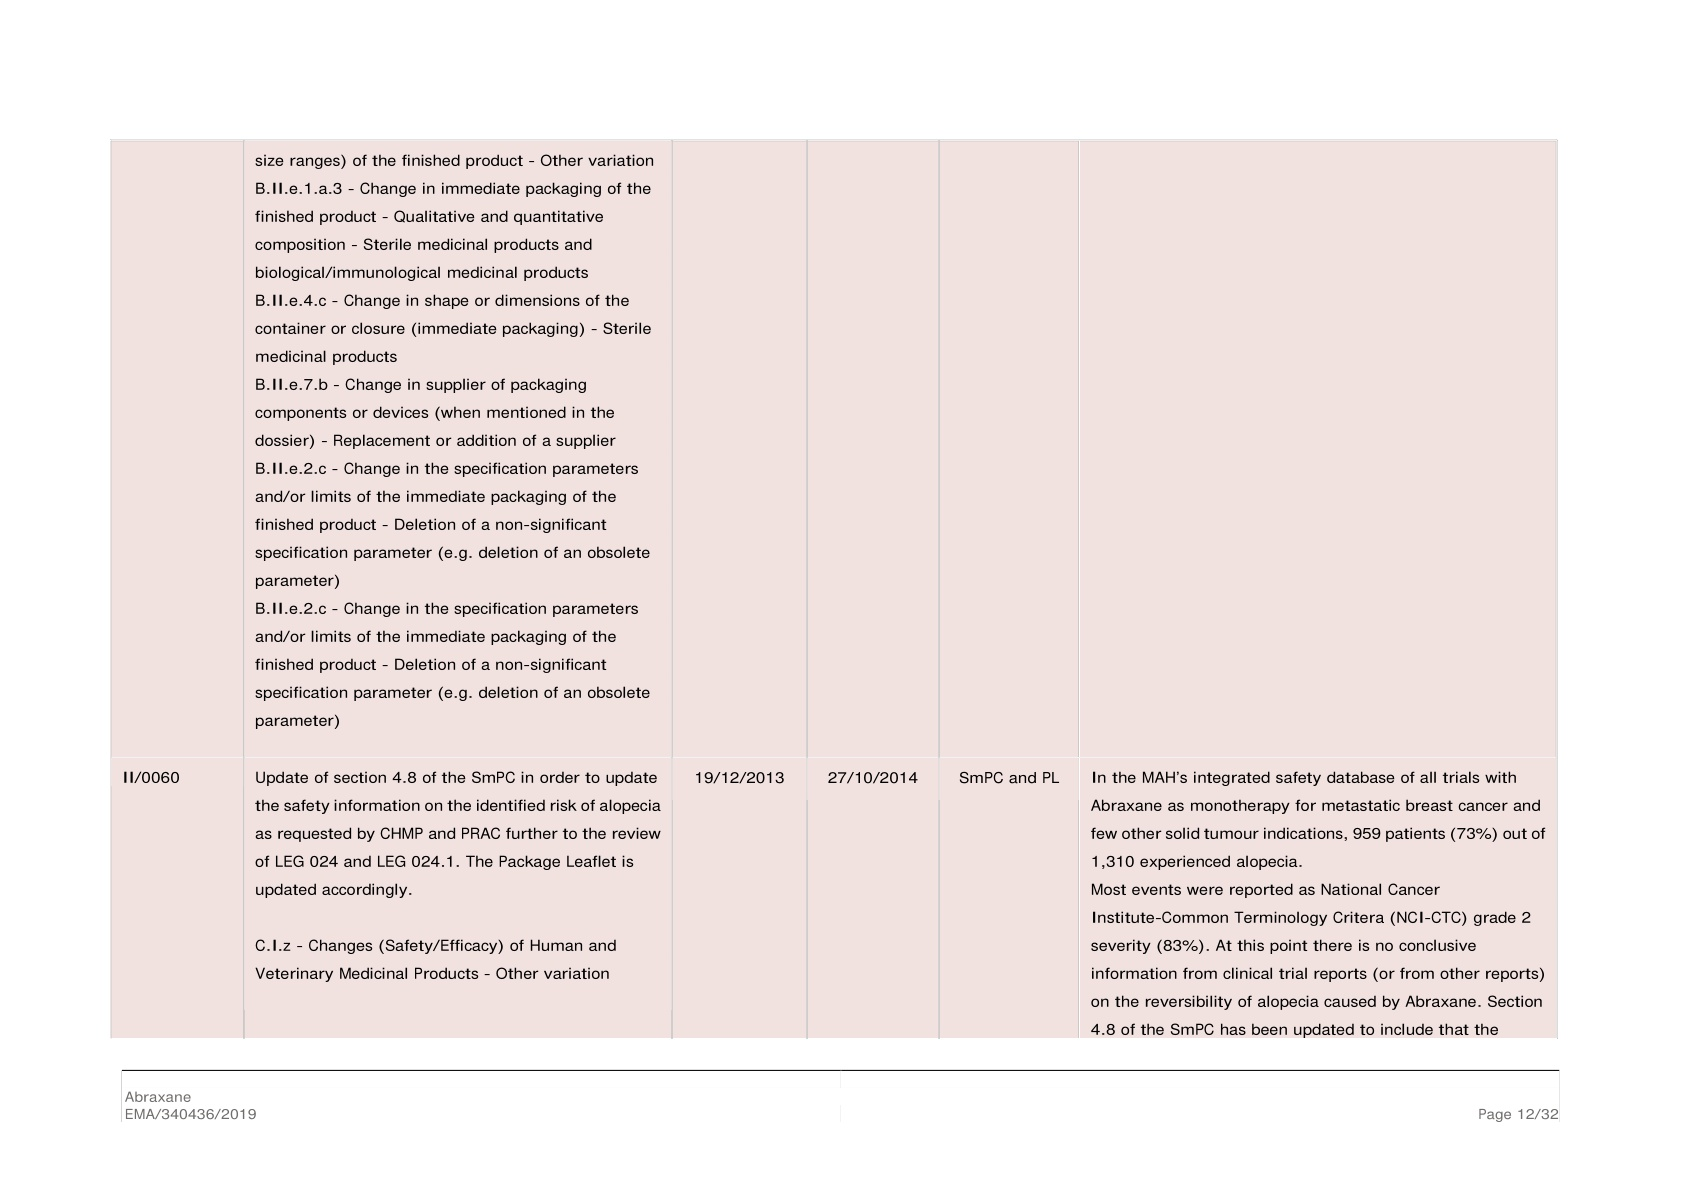full_lined: (109, 139, 1558, 1041)
